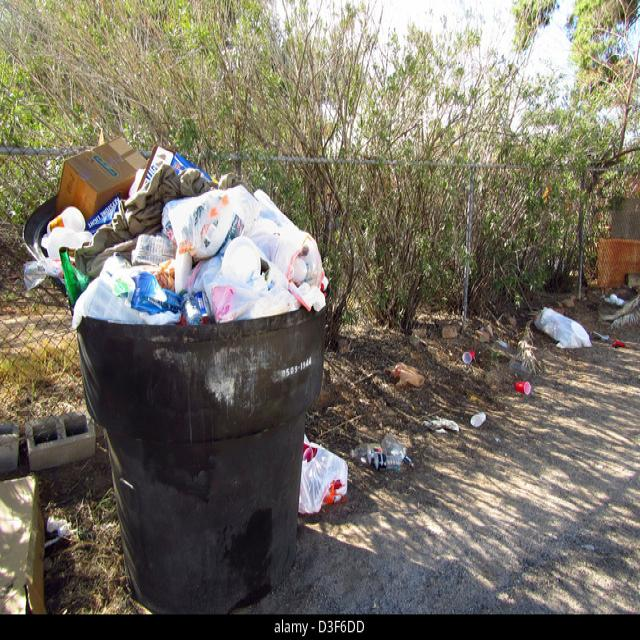plastic: (306, 439, 347, 511), (532, 308, 589, 352), (356, 444, 409, 478), (513, 375, 533, 398), (456, 349, 479, 365)
trash: (85, 197, 292, 332), (59, 141, 154, 203)
